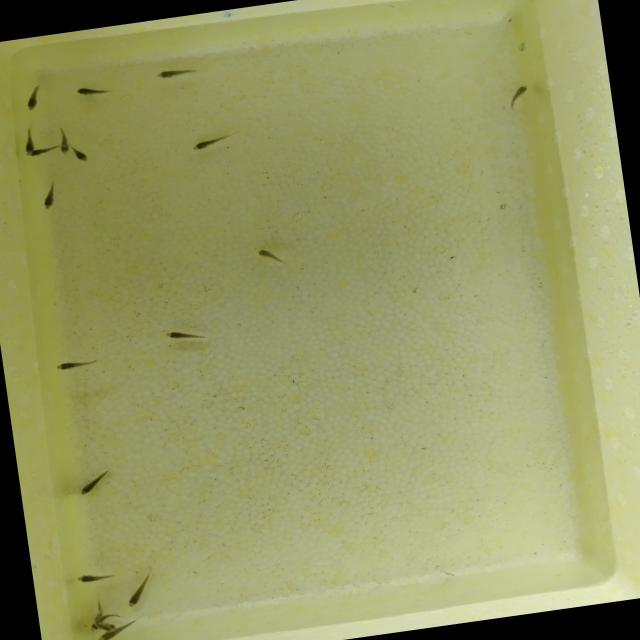fingerling: (72, 464, 120, 499), (152, 320, 214, 347), (49, 351, 102, 381), (122, 570, 158, 608), (250, 238, 286, 268), (186, 133, 240, 153), (38, 174, 61, 214), (504, 84, 536, 112), (153, 66, 201, 81), (72, 80, 105, 100), (19, 90, 46, 114), (78, 570, 113, 586), (94, 624, 128, 640), (73, 148, 99, 166), (28, 145, 56, 160), (94, 619, 120, 633), (56, 140, 74, 158), (21, 137, 38, 156)
